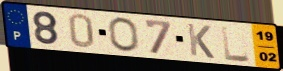0: (67, 12, 97, 50)
7: (144, 18, 174, 56)
8: (31, 10, 61, 46)
K: (185, 22, 216, 61)
L: (220, 24, 253, 64)
O: (107, 16, 141, 54)
